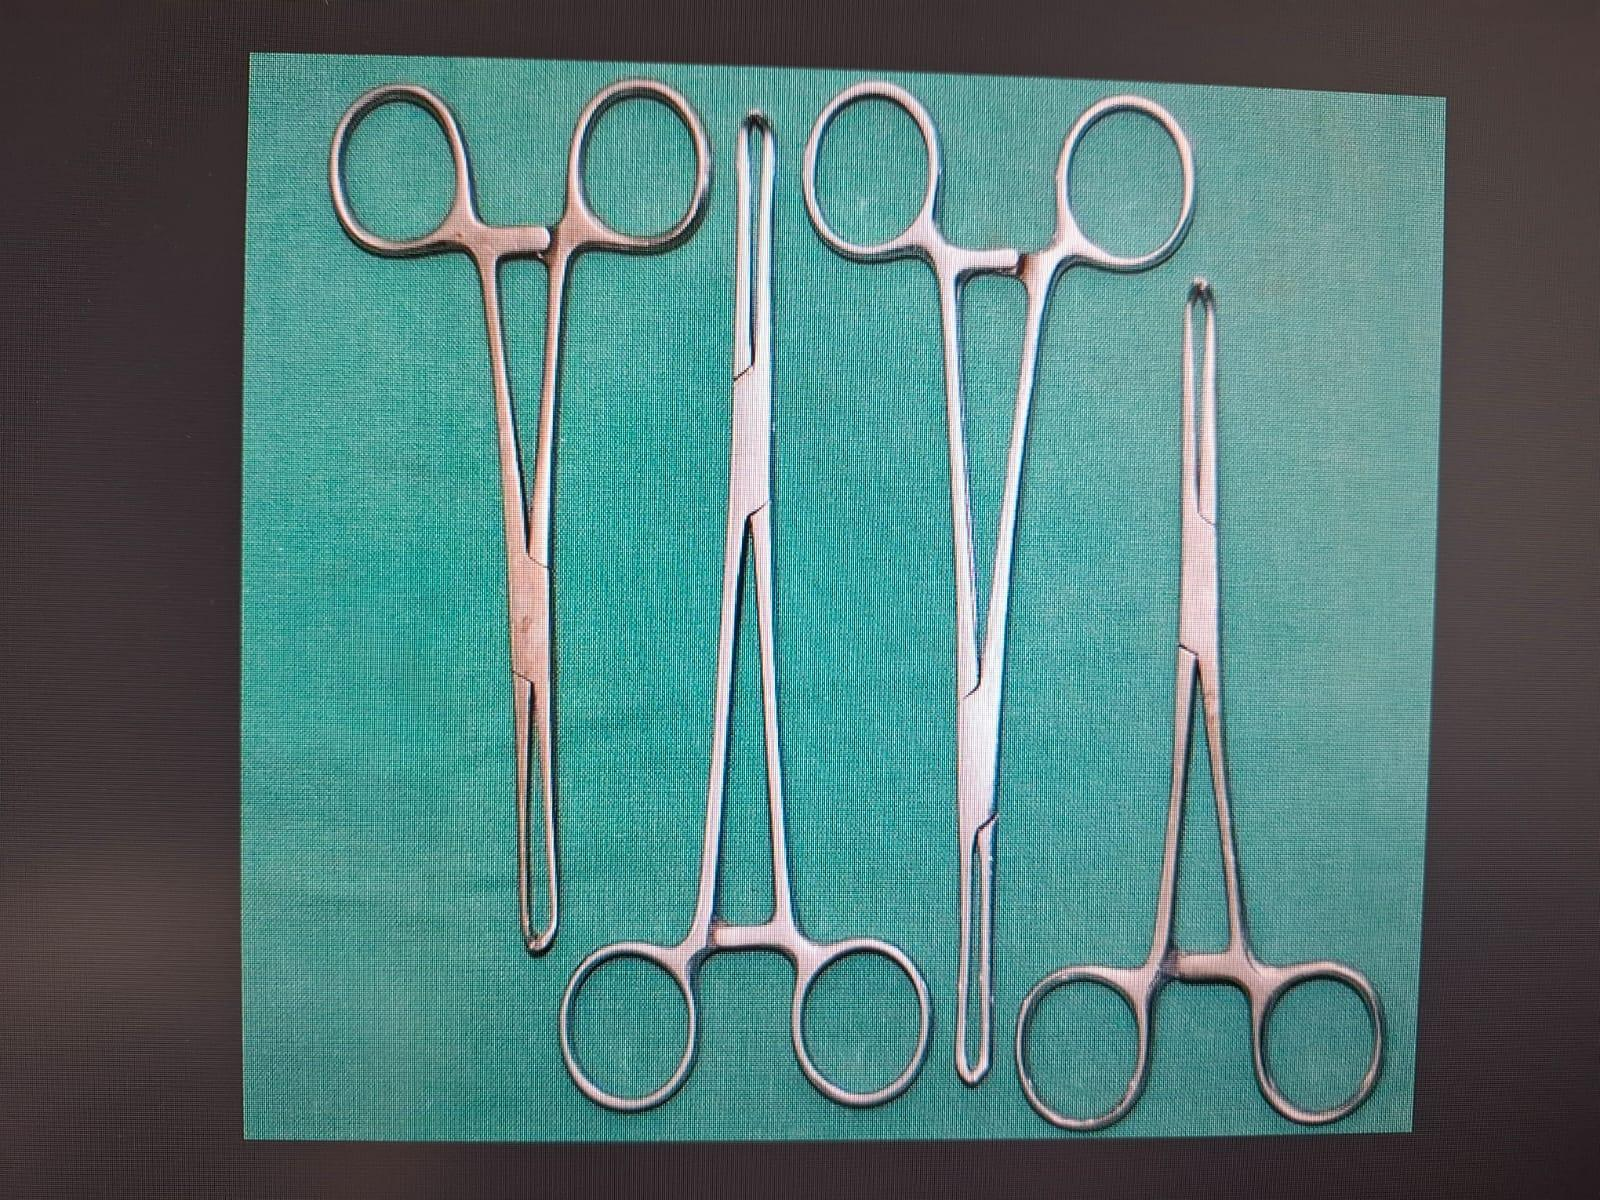Allis Forceps: (796, 74, 1208, 1092), (548, 96, 940, 1138), (1002, 260, 1420, 1145), (317, 74, 714, 976)
